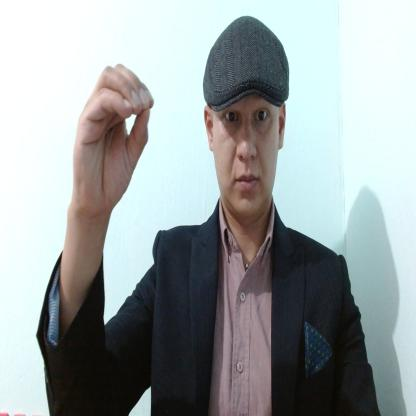O: (71, 63, 154, 210)
